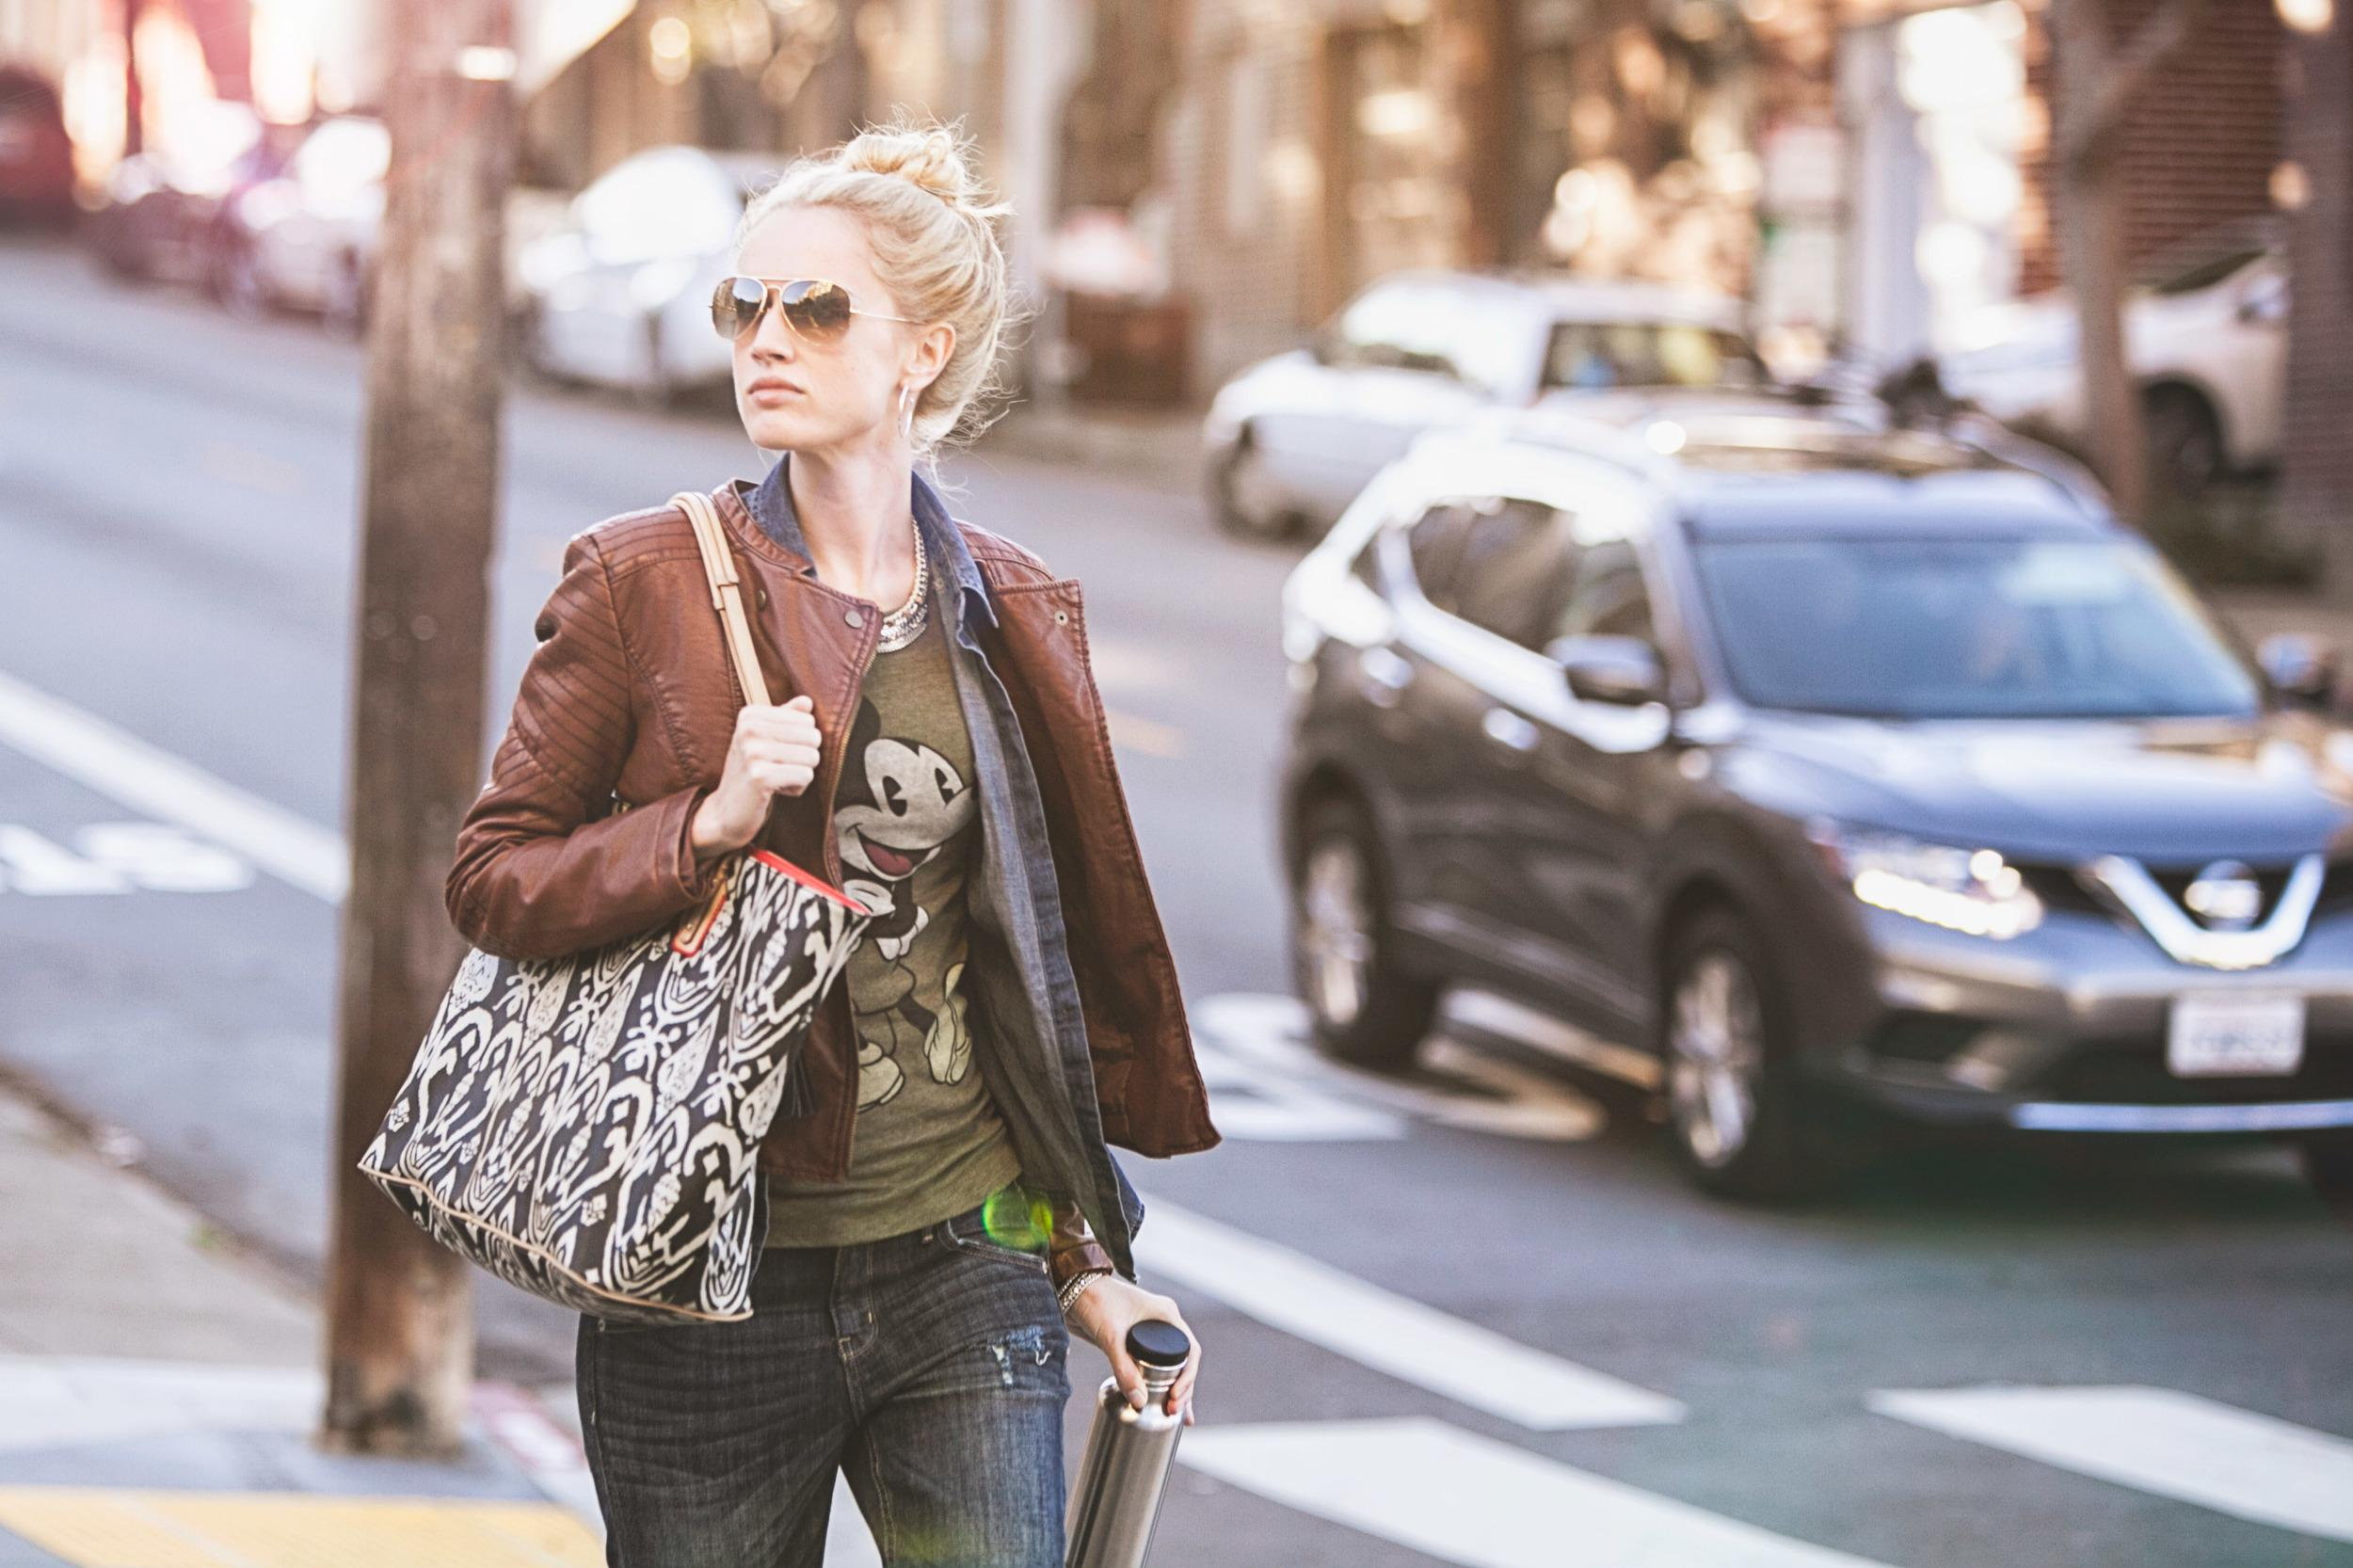Person: (494, 102, 1247, 1568)
